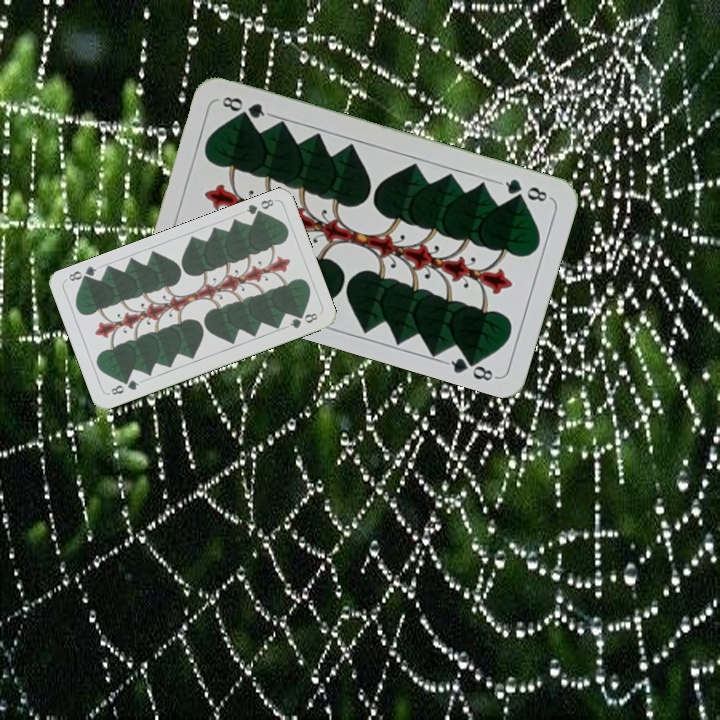G8: (495, 174, 553, 205), (242, 195, 276, 221), (107, 376, 142, 398)
